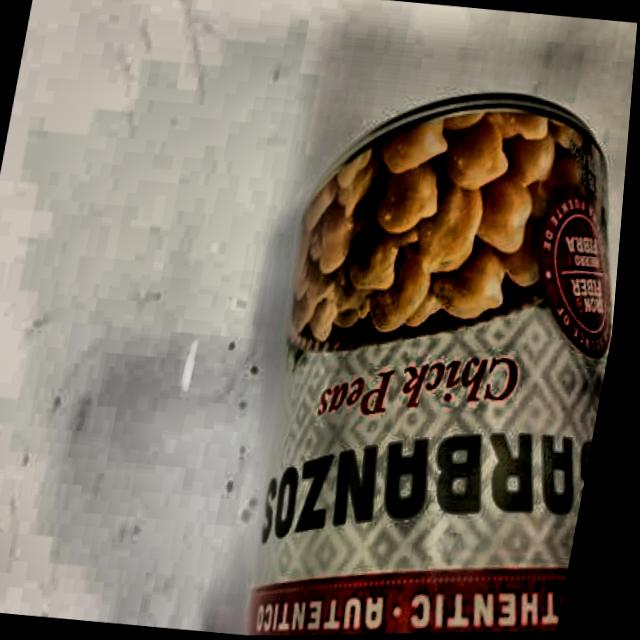Cans: (198, 54, 636, 637)
